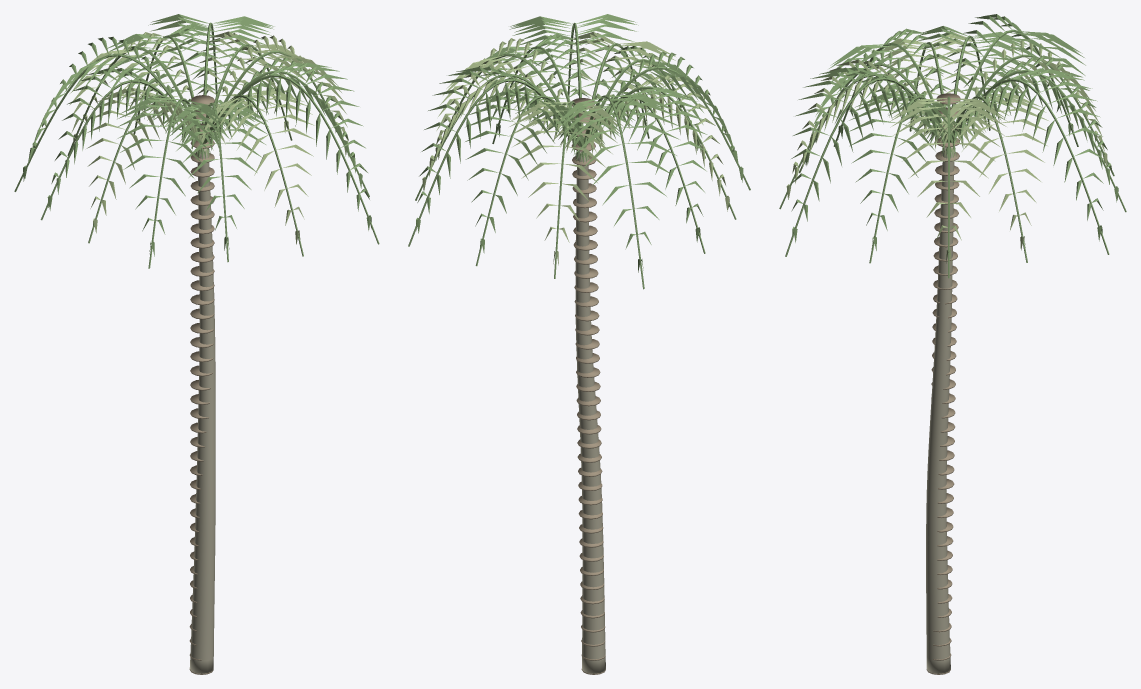
File: grove-specimen-11.glb
3 renders of one model, left to right at view 1: azimuth 30°, elevation 25°; view 2: azimuth 150°, elevation 25°; view 3: azimuth 270°, elevation 25°, orthographic.
Visible parts, largest first — view 1: grove-specimen-11; view 2: grove-specimen-11; view 3: grove-specimen-11.
Boxes of the visible parts, box(x1,y1,x2,y2) form: grove-specimen-11: box(14, 14, 379, 674); grove-specimen-11: box(408, 14, 750, 674); grove-specimen-11: box(779, 14, 1126, 674).
Size of the model in its own units: 4.81 by 9.48 by 4.84.
